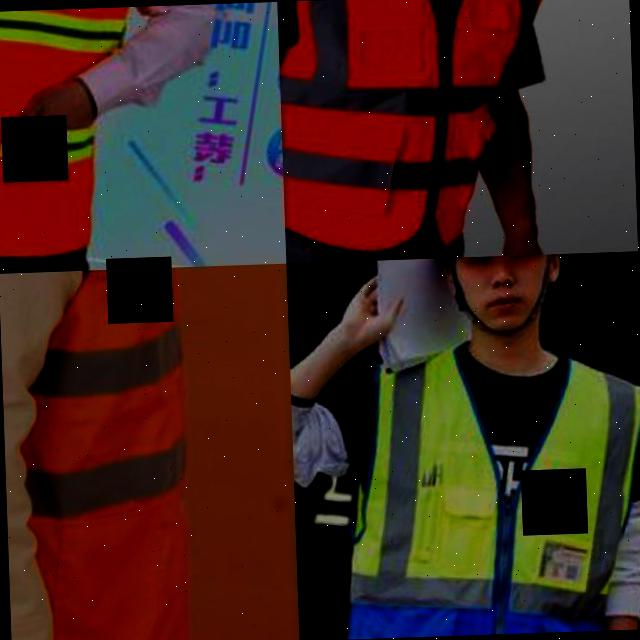vest: (0, 263, 293, 640), (335, 328, 640, 639), (276, 0, 546, 255), (0, 5, 174, 255)
